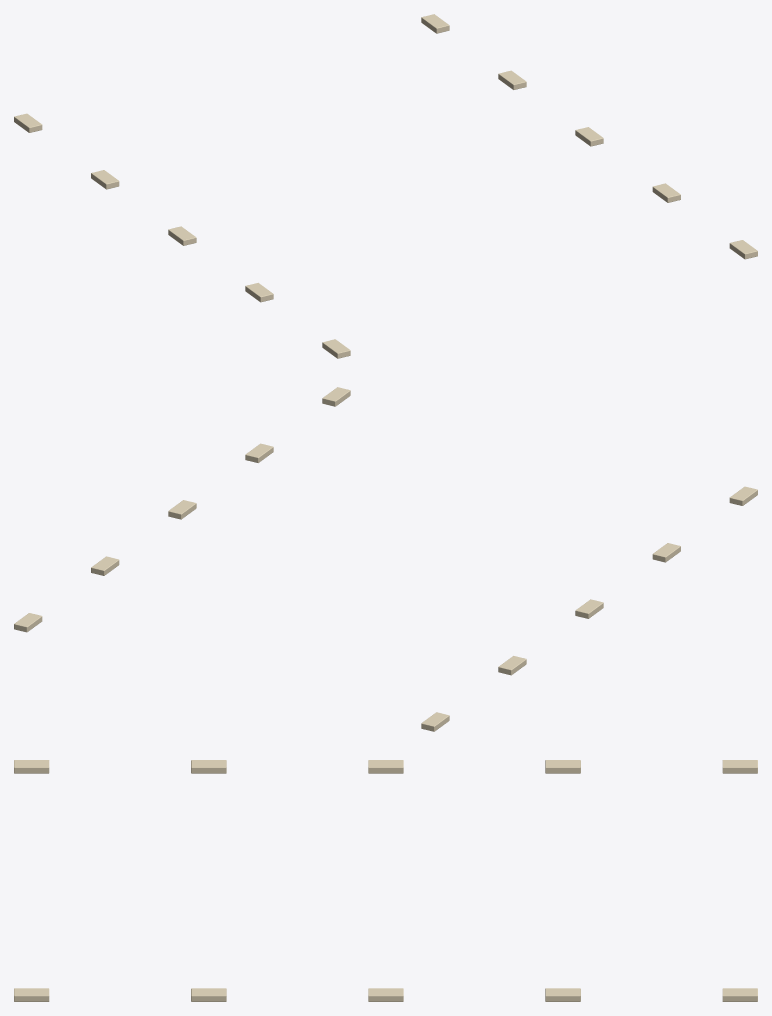
Rendered from Planters.fbx.
The picture shows the model from 3 angles, top to bottom: view 1: azimuth 30°, elevation 25°; view 2: azimuth 150°, elevation 25°; view 3: azimuth 270°, elevation 25°; orthographic projection. The views are drawn at different scales.
Parts seen in each view (by area): view 1: Planter-61.0_20.001; view 2: Planter-61.0_20.001; view 3: Planter-61.0_20.001.
Part boxes in pixels (x1,y1,x2,y2): Planter-61.0_20.001: (14,14,757,358); Planter-61.0_20.001: (14,387,757,731); Planter-61.0_20.001: (14,760,757,1001).
Size of the model in its own units: 12600 by 160 by 16800.
